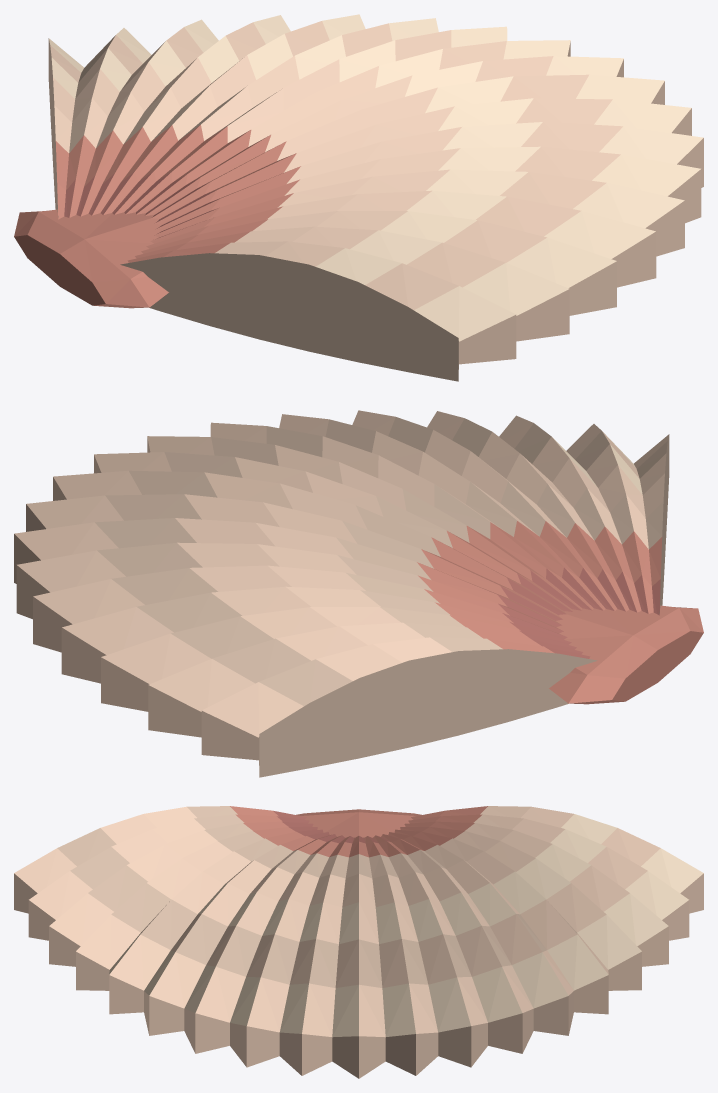
File: SM_CoastalShell.fbx
3 views of the same model, one above another, from view 1: azimuth 30°, elevation 25°; view 2: azimuth 150°, elevation 25°; view 3: azimuth 270°, elevation 25° (orthographic). The views are drawn at different scales.
Parts seen in each view (by area): view 1: SM_CoastalShell; view 2: SM_CoastalShell; view 3: SM_CoastalShell.
Boxes of the visible parts, bbox=[...] form: SM_CoastalShell: bbox=[14, 14, 703, 381]; SM_CoastalShell: bbox=[14, 410, 703, 777]; SM_CoastalShell: bbox=[14, 806, 703, 1078].
Bounding box in the file's own units: 22.05 × 25.86 × 3.78.
1 material, 1 textured.
